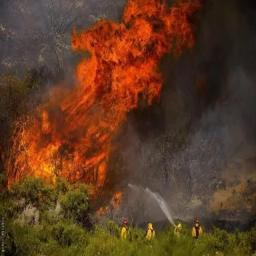Heavy smoke: (122, 0, 255, 221)
Large fire: (0, 0, 206, 218)
